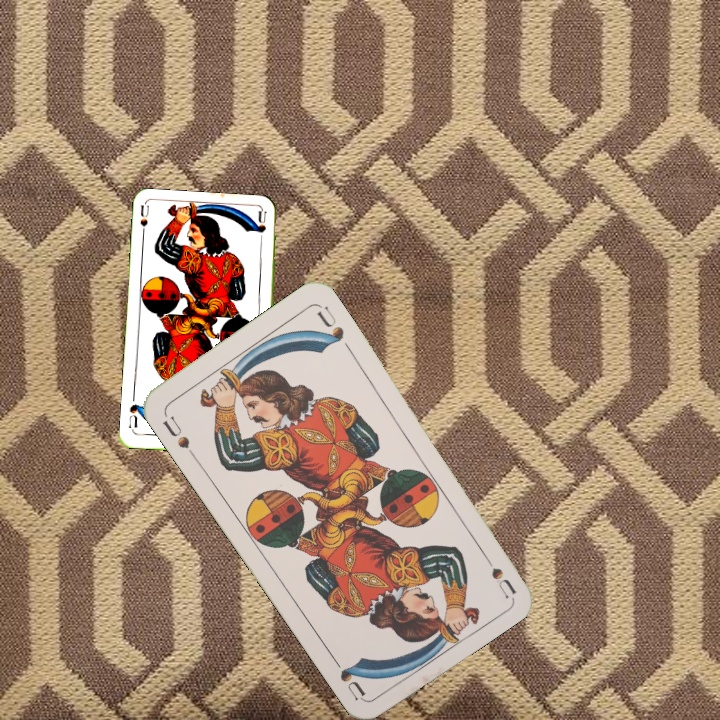SU: (475, 544, 517, 598), (158, 412, 199, 462), (136, 203, 151, 244)
